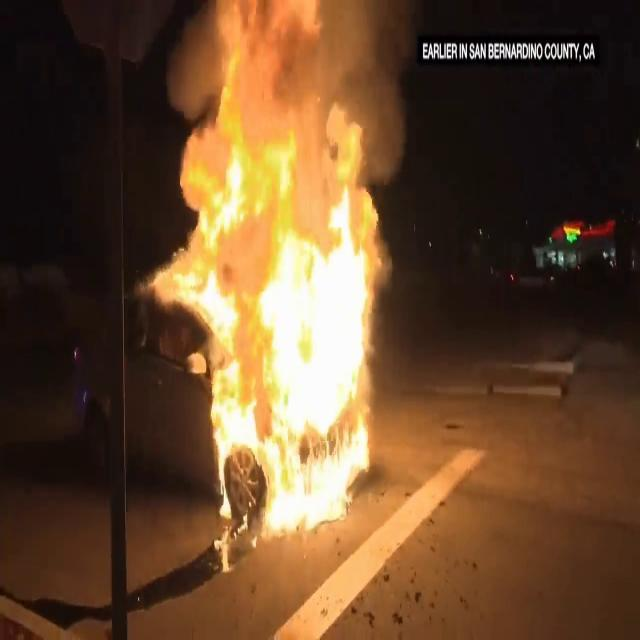Fire: (153, 5, 394, 537)
